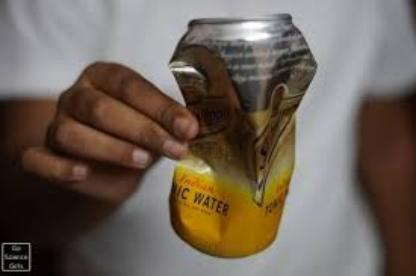Can: (168, 12, 320, 264)
